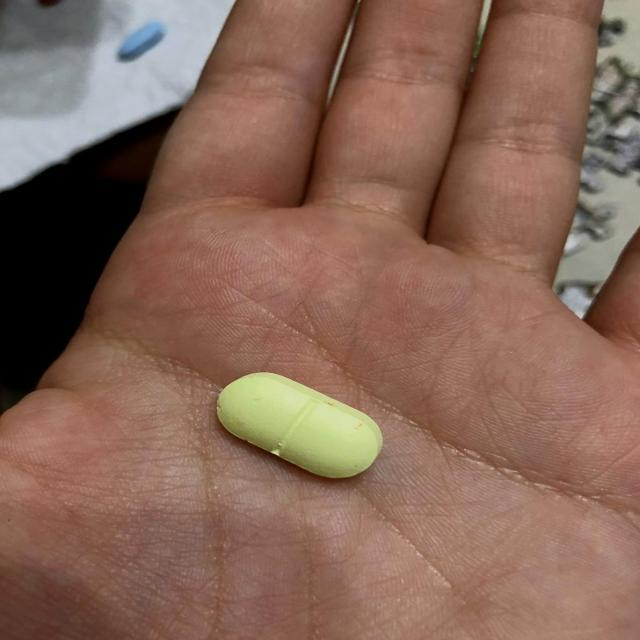pill: (212, 368, 392, 483)
